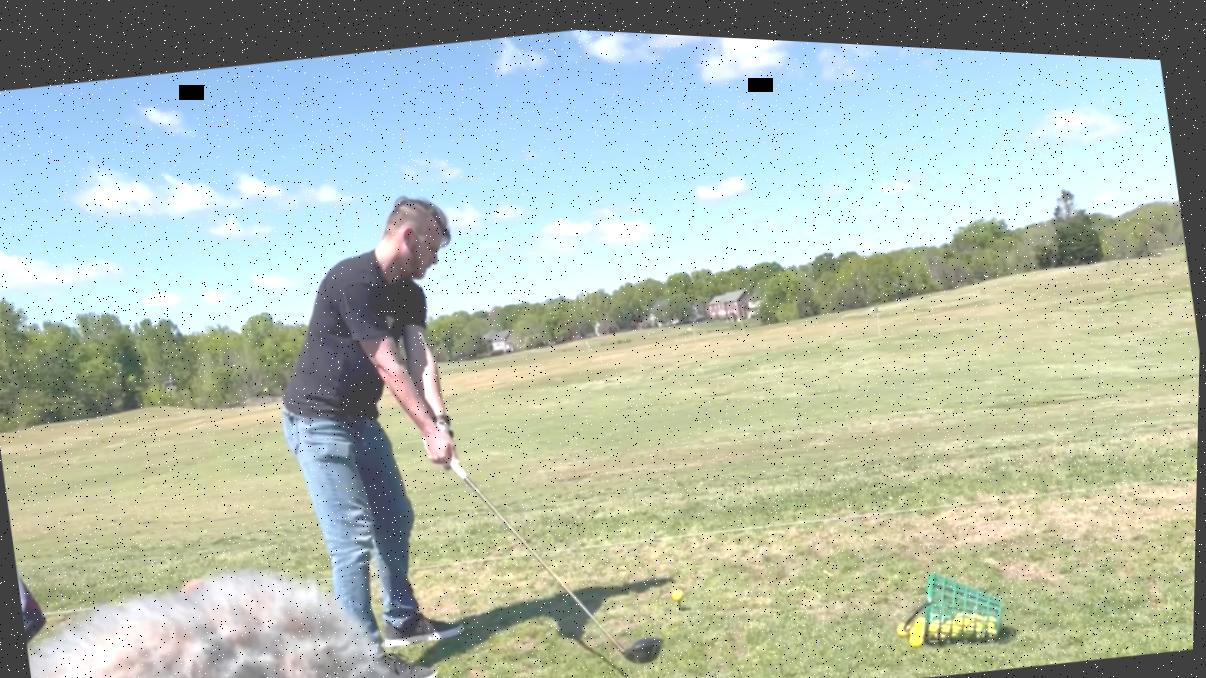ClubHead: (613, 622, 674, 667)
GolfBall: (670, 579, 689, 597)
